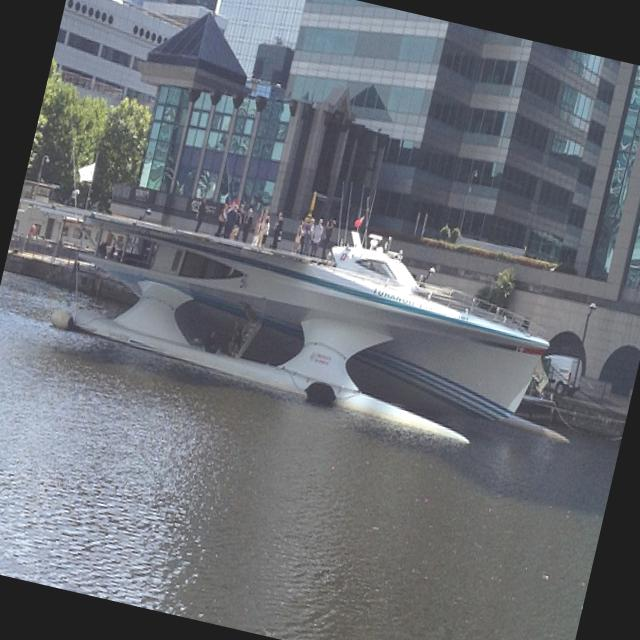Vehicle: (538, 349, 586, 398)
